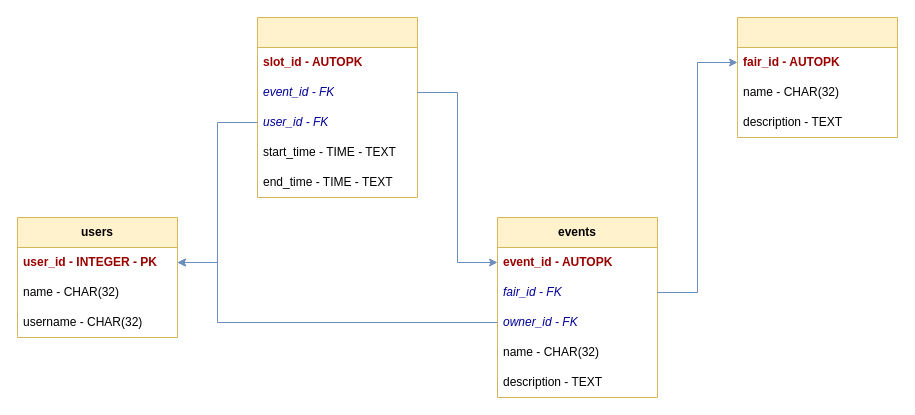
Image size: 915x415. Some labels were removed from this diagram. The box of each missing label's shape, as (x1, y1, x2, y2) in pixels:
fairs: (736, 16, 898, 138)
slots: (256, 16, 418, 198)
